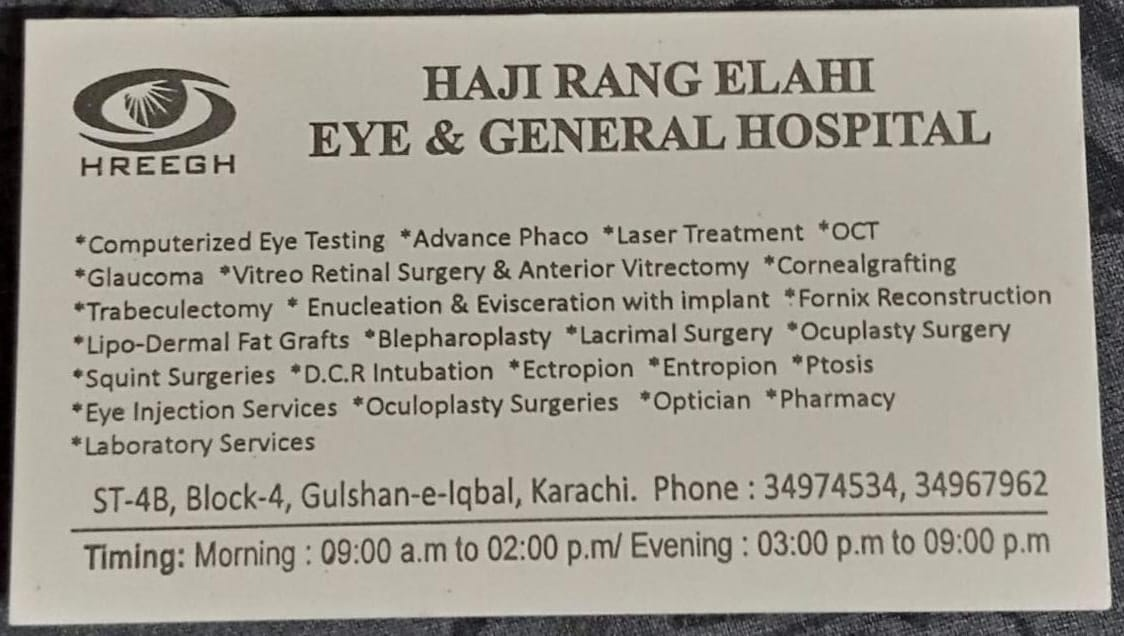alphabetical: (409, 55, 905, 104)
numerical: (911, 459, 1056, 508), (759, 464, 900, 504)
